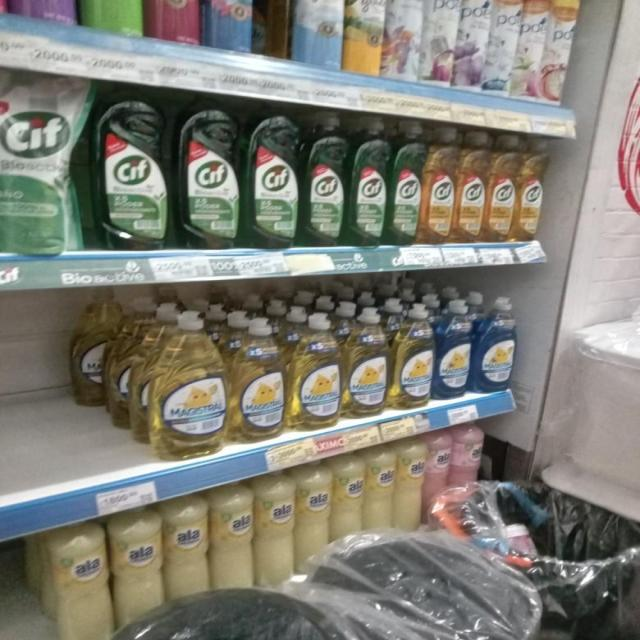ala_crem_amarillo: (44, 523, 109, 640), (111, 508, 162, 626), (255, 472, 294, 587), (211, 484, 253, 590), (165, 498, 208, 599), (296, 462, 330, 572), (396, 439, 424, 533), (365, 447, 394, 532)
cif_conc_bot_amarilla: (423, 126, 455, 246), (456, 130, 486, 244), (487, 134, 517, 244), (517, 140, 546, 242)
cif_conc_botella_verde: (93, 86, 170, 251), (176, 98, 241, 251), (245, 109, 300, 250), (303, 112, 347, 248), (350, 116, 388, 248), (389, 120, 422, 246)
cif_conc_sachet_verde: (0, 70, 83, 256)
magistral_con_amarillo: (148, 310, 227, 460), (230, 315, 286, 443), (289, 312, 341, 432), (344, 306, 389, 419), (392, 302, 433, 411)
magistral_con_azul: (474, 296, 517, 394), (436, 298, 472, 400)
